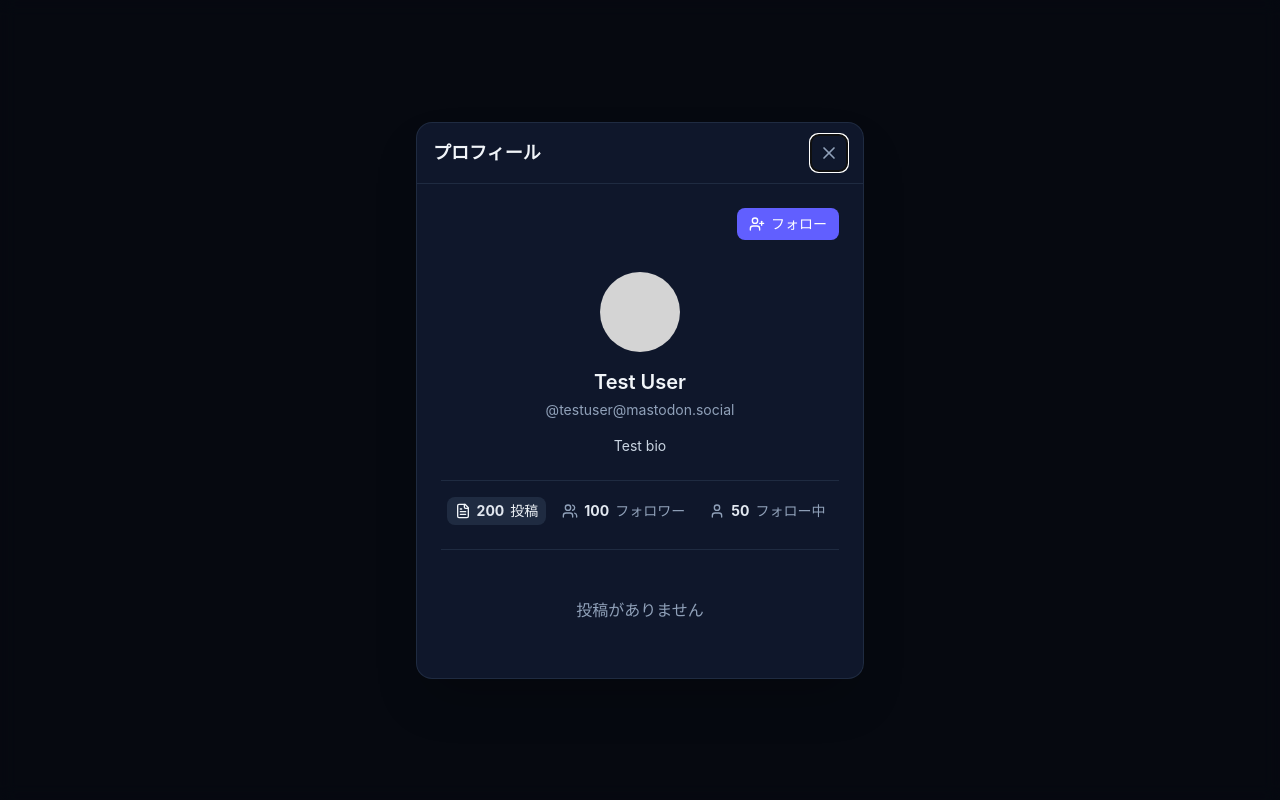
Test: ProfileModal › Tab navigation › shows following loading state
Click the tab "50 フォロー中": (767, 510) [701,496,833,524]
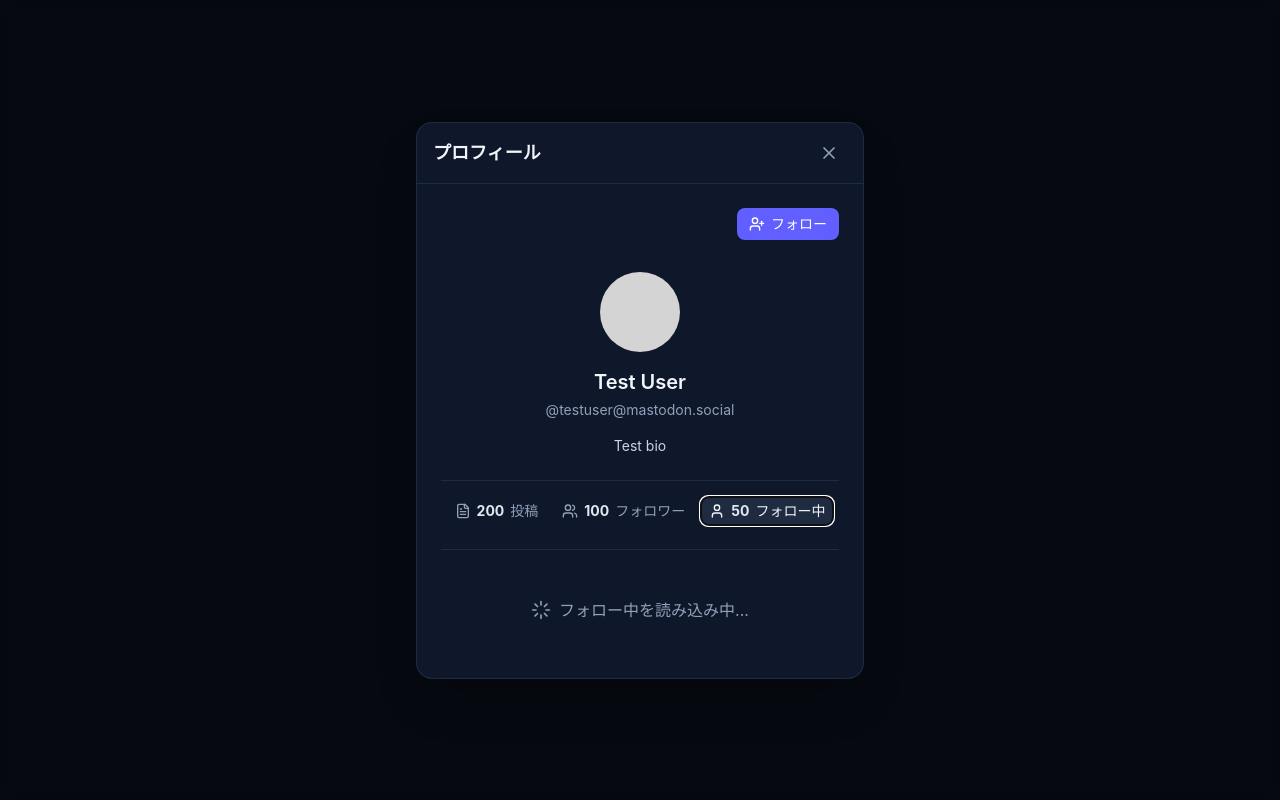
Expected: the text "フォロー中を読み込み中..." is shown, [559,598,749,622]
